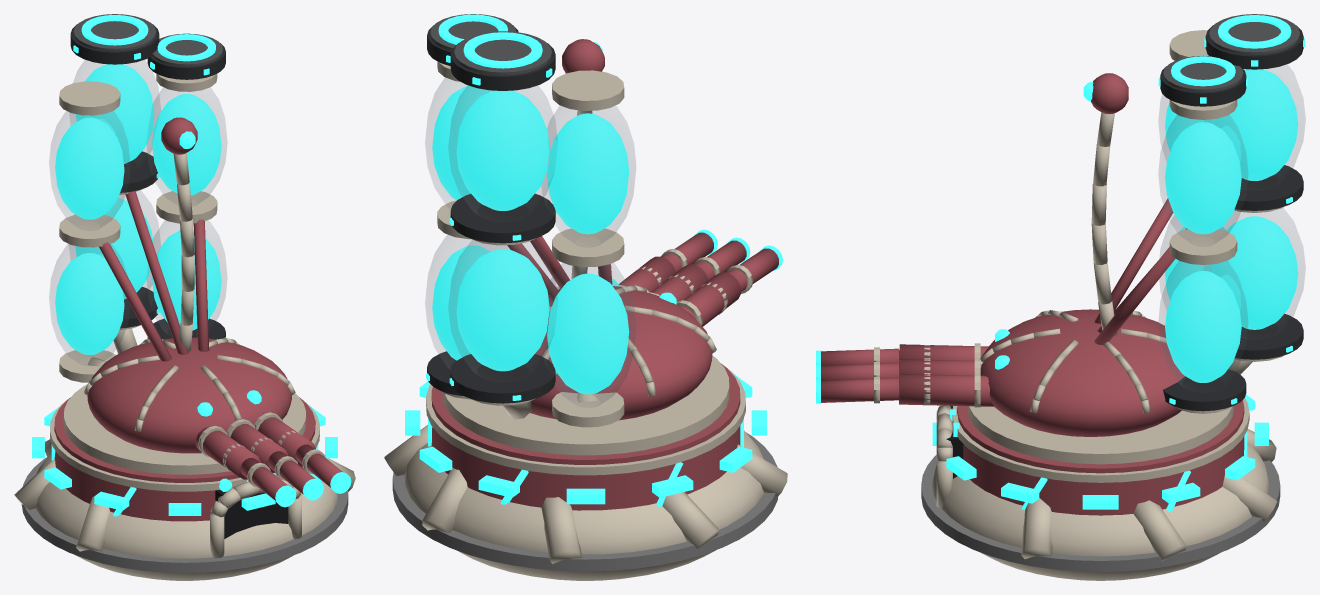
File: Machinegoon_T3_Spitter.glb
The picture shows the model from 3 angles, left to right: view 1: azimuth 30°, elevation 25°; view 2: azimuth 150°, elevation 25°; view 3: azimuth 270°, elevation 25°; orthographic projection. The views are drawn at different scales.
Parts seen in each view (by area): view 1: Machinegoon_T3_Spitter_Turret, Machinegoon_T3_Spitter_Base; view 2: Machinegoon_T3_Spitter_Turret, Machinegoon_T3_Spitter_Base; view 3: Machinegoon_T3_Spitter_Turret, Machinegoon_T3_Spitter_Base.
Boxes of the visible parts, left/top/right/bottom form: Machinegoon_T3_Spitter_Turret: left=49, top=14, right=351, bottom=507; Machinegoon_T3_Spitter_Base: left=14, top=397, right=355, bottom=580; Machinegoon_T3_Spitter_Turret: left=425, top=14, right=782, bottom=455; Machinegoon_T3_Spitter_Base: left=384, top=363, right=787, bottom=580; Machinegoon_T3_Spitter_Turret: left=816, top=14, right=1305, bottom=464; Machinegoon_T3_Spitter_Base: left=921, top=394, right=1280, bottom=580.
Bounding box in the file's own units: 3.5 × 5.57 × 4.78.
